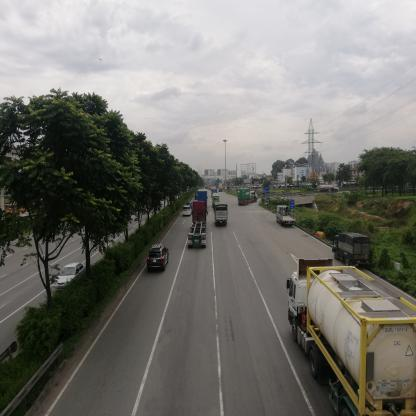bus: (213, 195, 220, 202)
car: (56, 264, 83, 292), (150, 245, 169, 272), (184, 205, 192, 218)
container: (194, 202, 206, 248), (238, 191, 259, 208), (197, 191, 209, 202)
truck: (289, 256, 416, 416), (335, 235, 370, 265), (278, 205, 298, 226), (216, 206, 229, 229), (319, 187, 342, 197)
